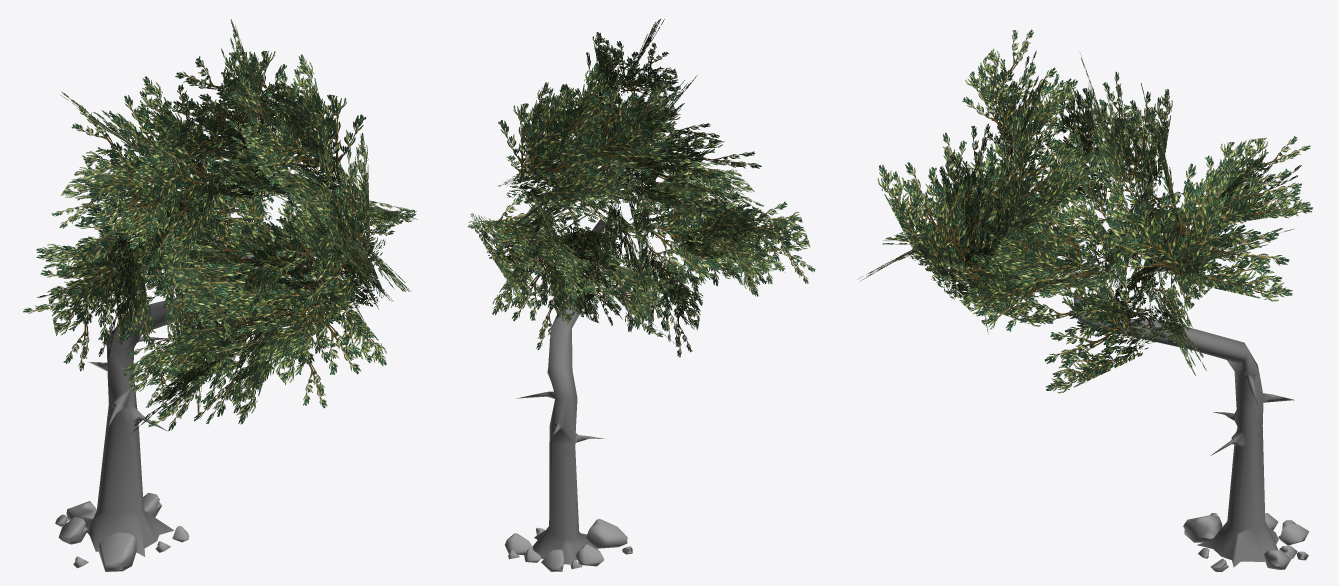
Rendered from gardtree_lod2.fbx.
The picture shows the model from 3 angles, left to right: view 1: azimuth 30°, elevation 25°; view 2: azimuth 150°, elevation 25°; view 3: azimuth 270°, elevation 25°; orthographic projection. The views are drawn at different scales.
Parts seen in each view (by area): view 1: Default_Layer; view 2: Default_Layer; view 3: Default_Layer.
Boxes of the visible parts, x1,y1,x2,y2 form: Default_Layer: (23,19,417,571); Default_Layer: (467,19,815,571); Default_Layer: (857,29,1312,571).
Bounding box in the file's own units: 524 × 823 × 662.
